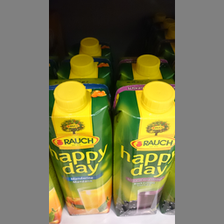juice: (112, 79, 175, 218), (49, 78, 112, 216)
